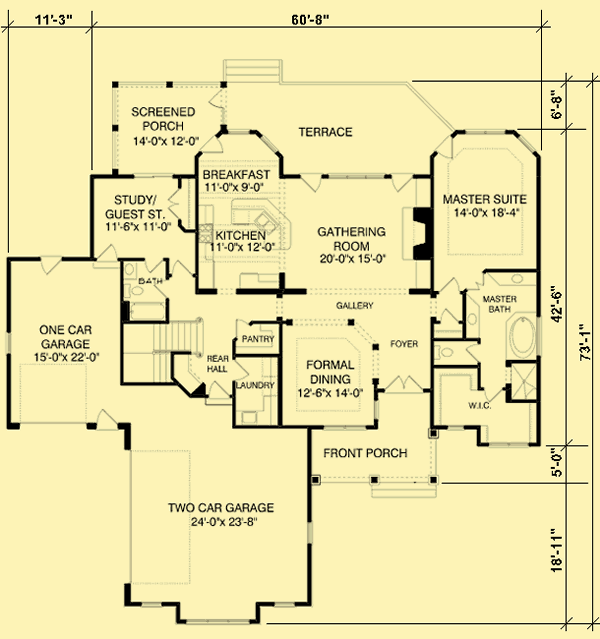door: (383, 373, 425, 394), (206, 376, 233, 405), (436, 135, 461, 162), (200, 136, 227, 160), (164, 188, 183, 221), (35, 253, 61, 277), (96, 243, 119, 268), (436, 273, 460, 296), (388, 174, 415, 193), (299, 173, 324, 193)
kitchen_bar: (227, 195, 295, 251)
large_sink: (432, 338, 457, 361)
small_sink: (485, 268, 541, 288), (461, 292, 483, 338)
stairs: (124, 318, 206, 386)
tub: (501, 309, 540, 362)
window: (320, 422, 370, 434), (328, 171, 385, 181), (486, 440, 531, 448)
